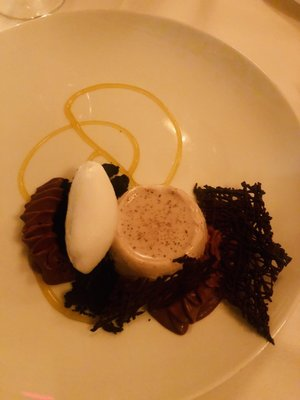sandwich: (0, 0, 66, 20)
